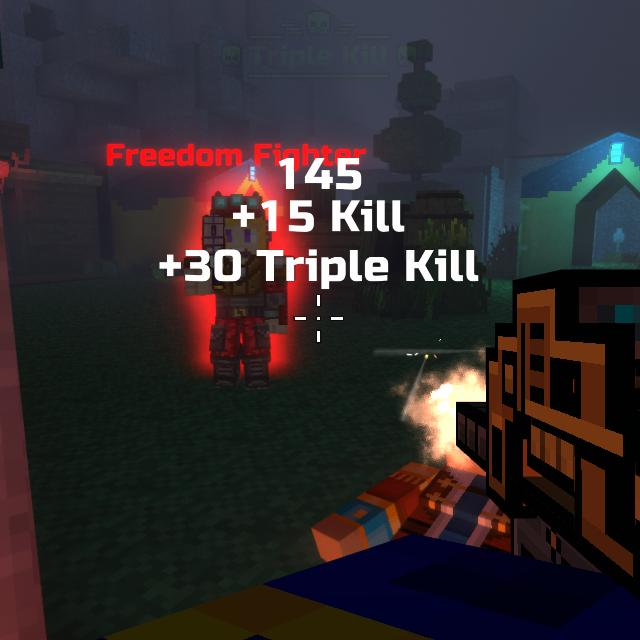Enemy: (183, 197, 295, 391)
